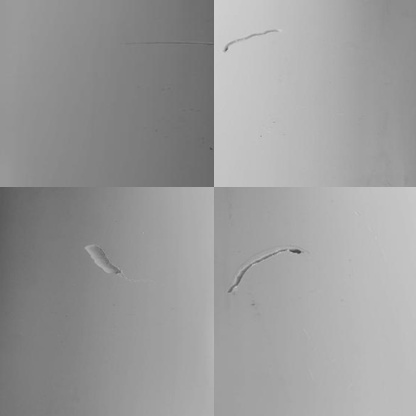fengxi: (228, 238, 304, 301), (222, 22, 282, 58)
sunshang: (85, 242, 127, 282)
